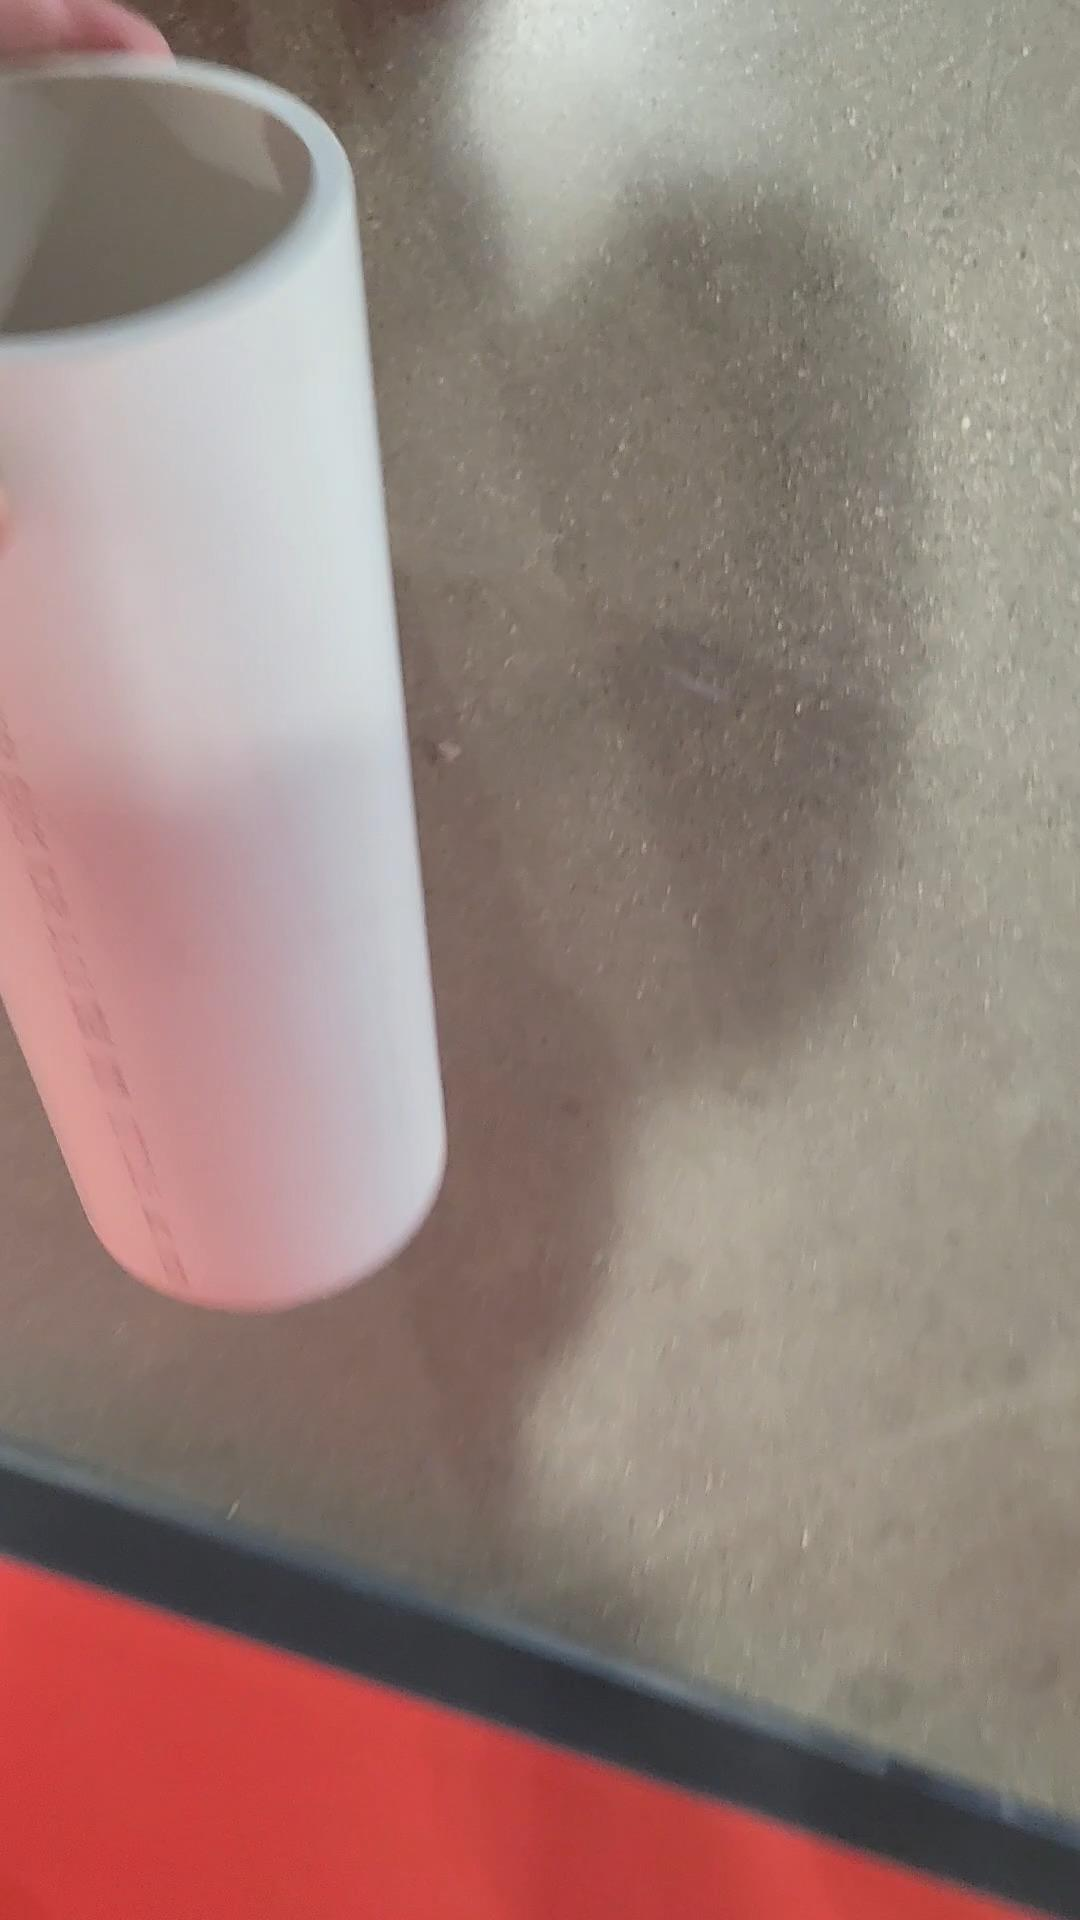coral: (0, 41, 456, 1324)
